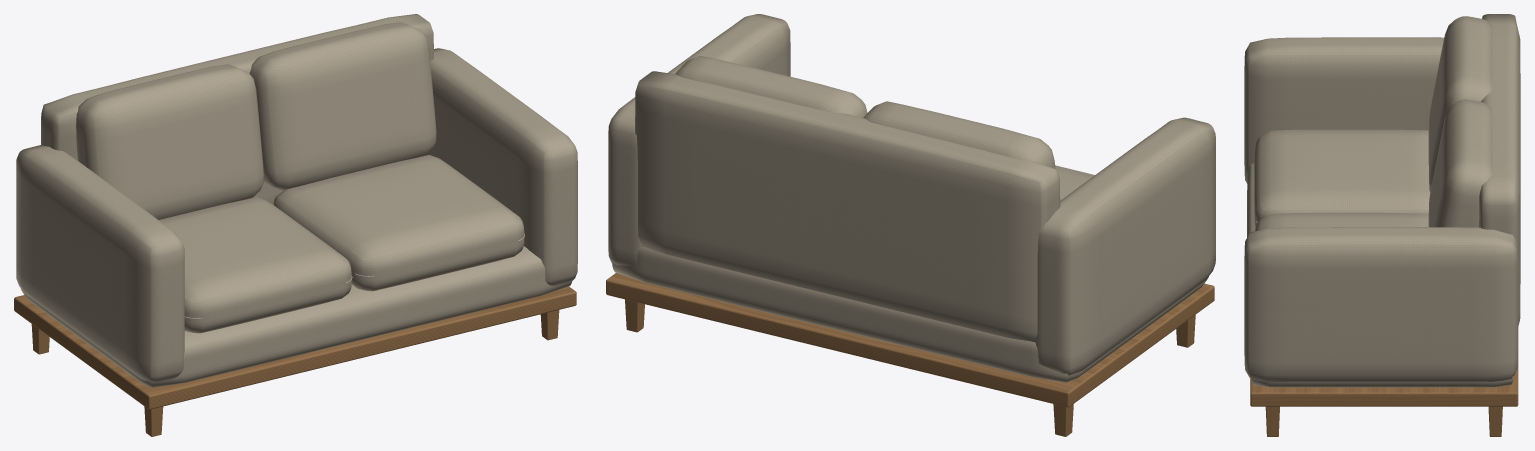
The model's file is sofa_2_lugares.glb.
3 renders of one model, left to right at view 1: azimuth 30°, elevation 25°; view 2: azimuth 150°, elevation 25°; view 3: azimuth 270°, elevation 25°, orthographic. The views are drawn at different scales.
Parts seen in each view (by area): view 1: sofa_2_lugares; view 2: sofa_2_lugares; view 3: sofa_2_lugares.
Boxes of the visible parts, left/top/right/bottom form: sofa_2_lugares: left=14, top=14, right=577, bottom=436; sofa_2_lugares: left=606, top=14, right=1215, bottom=436; sofa_2_lugares: left=1244, top=14, right=1520, bottom=436.
Bounding box in the file's own units: 1.55 × 0.8519 × 0.856.
3 materials, 2 textured.
